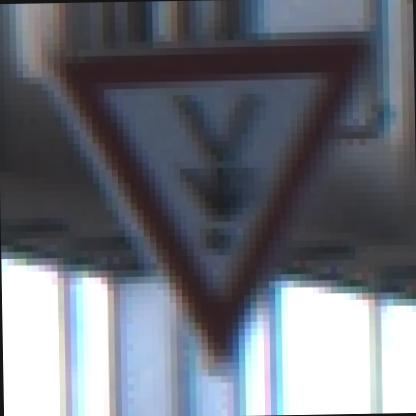crosswalk: (19, 30, 382, 378)
